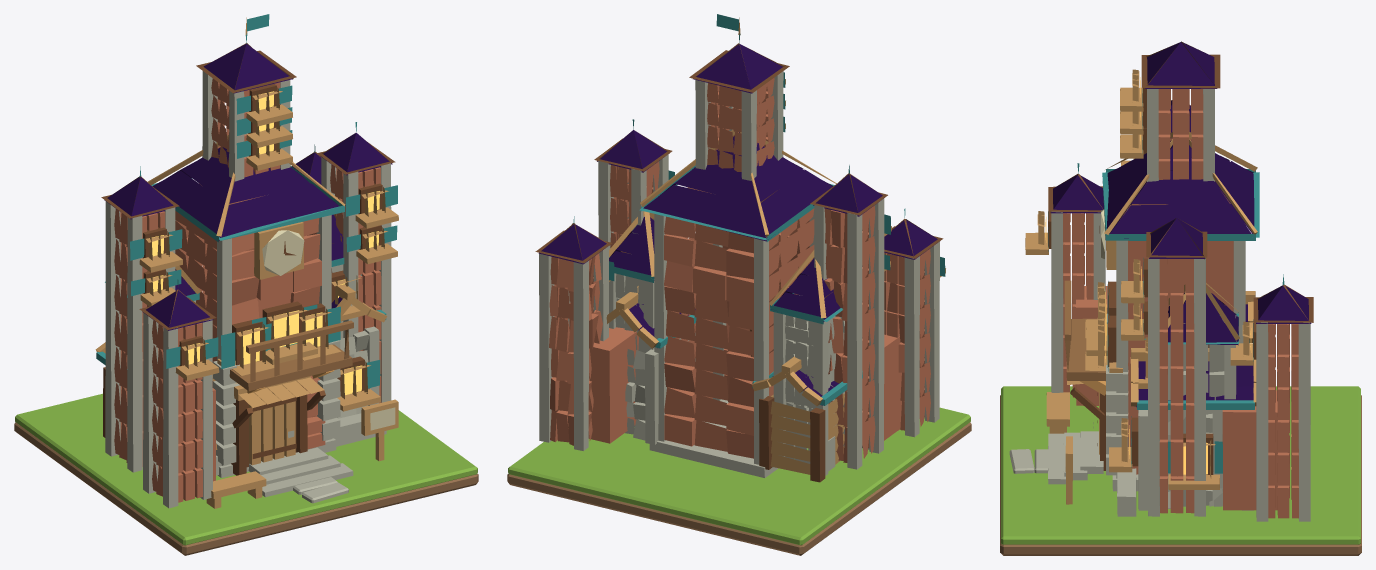
Rendered from town_hall_l15_active_LOD2.glb.
3 views of the same model, side by side, from view 1: azimuth 30°, elevation 25°; view 2: azimuth 150°, elevation 25°; view 3: azimuth 270°, elevation 25° (orthographic). The views are drawn at different scales.
Visible parts, largest first — view 1: town_hall_l15_active_foundation.001, town_hall_l15_active_grass_tile.001, town_hall_l15_active_earth_tile.001, town_hall_l15_active_path_stone.005; view 2: town_hall_l15_active_foundation.001, town_hall_l15_active_grass_tile.001, town_hall_l15_active_earth_tile.001; view 3: town_hall_l15_active_foundation.001, town_hall_l15_active_grass_tile.001, town_hall_l15_active_earth_tile.001, town_hall_l15_active_path_stone.005.
Boxes of the visible parts, x1,y1,x2,y2 form: town_hall_l15_active_foundation.001: (95, 14, 398, 508); town_hall_l15_active_grass_tile.001: (15, 393, 477, 545); town_hall_l15_active_earth_tile.001: (14, 422, 478, 555); town_hall_l15_active_path_stone.005: (302, 482, 348, 503); town_hall_l15_active_foundation.001: (535, 14, 945, 482); town_hall_l15_active_grass_tile.001: (508, 407, 970, 545); town_hall_l15_active_earth_tile.001: (507, 422, 971, 555); town_hall_l15_active_foundation.001: (1025, 41, 1313, 521); town_hall_l15_active_grass_tile.001: (1001, 386, 1360, 544); town_hall_l15_active_earth_tile.001: (1000, 395, 1361, 555); town_hall_l15_active_path_stone.005: (1009, 449, 1034, 473).
Bounding box in the file's own units: 3.6 × 5.13 × 3.6.
